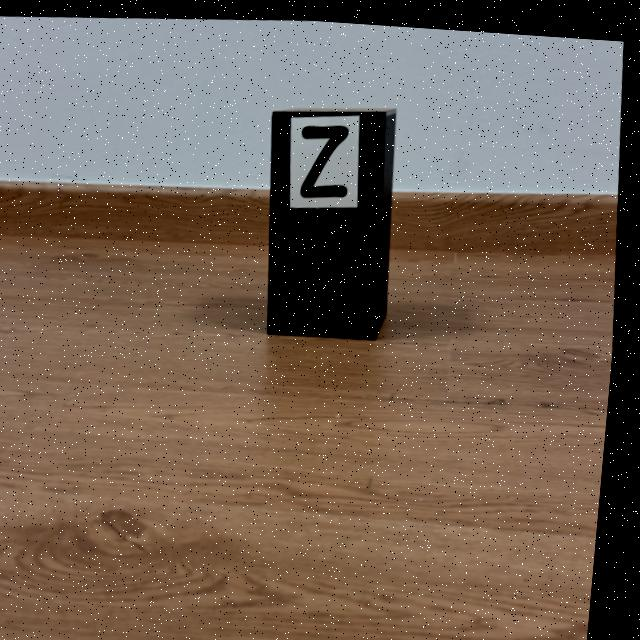Z: (304, 121, 350, 193)
